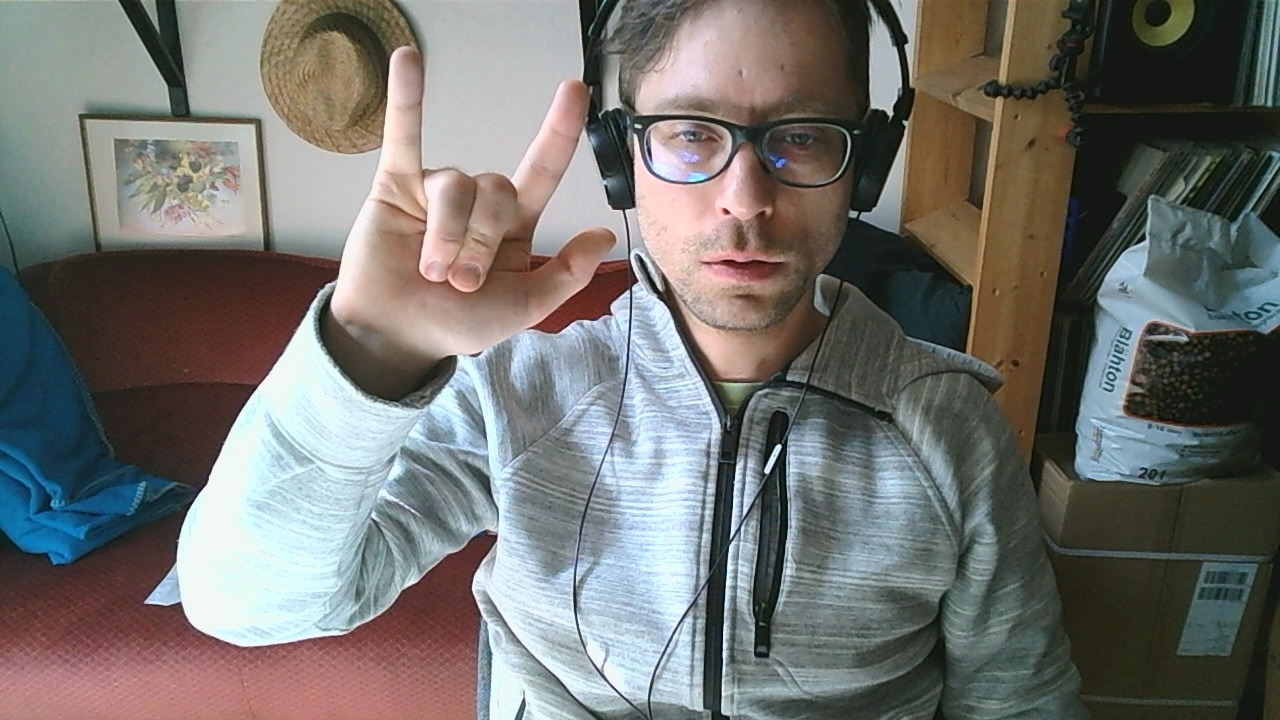iloveyou: (325, 44, 621, 366)
